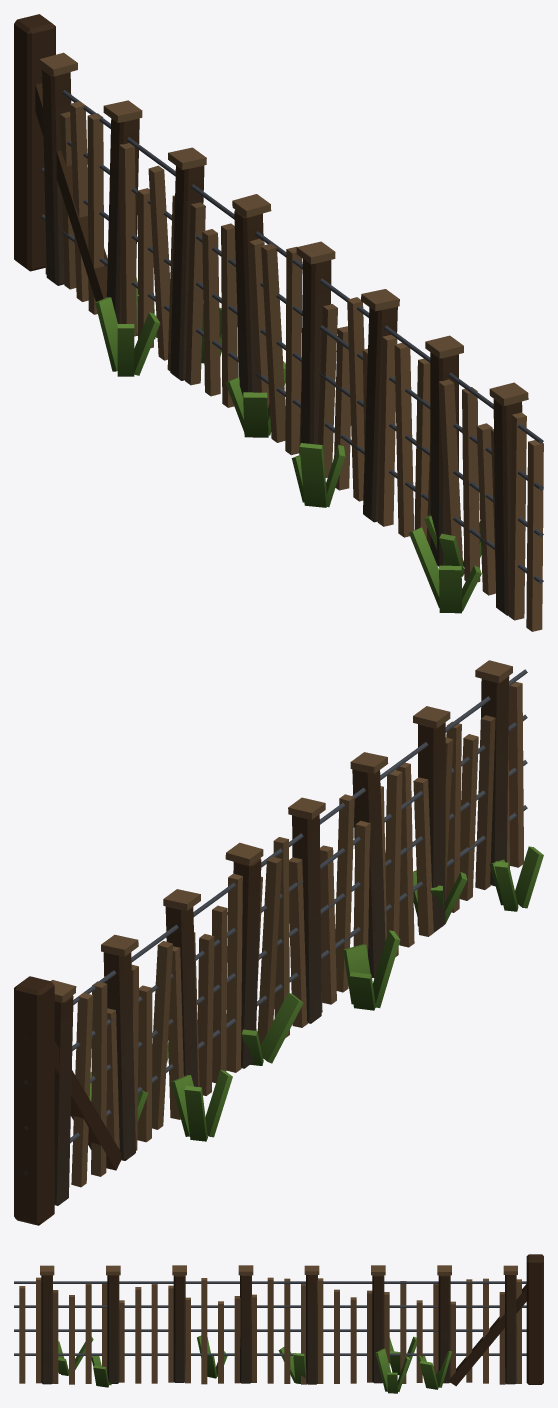
File: lineside-fence-run.glb
3 views of the same model, one above another, from view 1: azimuth 30°, elevation 25°; view 2: azimuth 150°, elevation 25°; view 3: azimuth 270°, elevation 25° (orthographic). The views are drawn at different scales.
Visible parts, largest first — view 1: lineside_fence_run; view 2: lineside_fence_run; view 3: lineside_fence_run.
Part boxes in pixels (<box>): lineside_fence_run: <box>14,14,543,631</box>; lineside_fence_run: <box>14,660,543,1225</box>; lineside_fence_run: <box>14,1254,543,1393</box>.
Size of the model in its own units: 0.5203 by 1.06 by 4.
